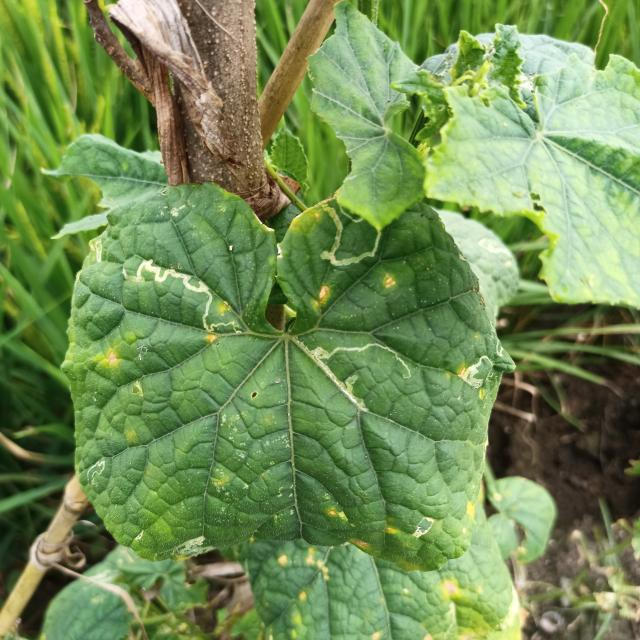disease_cucumber: (322, 507, 351, 527), (313, 284, 330, 312), (102, 348, 120, 368), (381, 275, 397, 292), (215, 299, 229, 318), (208, 334, 216, 346), (384, 526, 396, 534)
